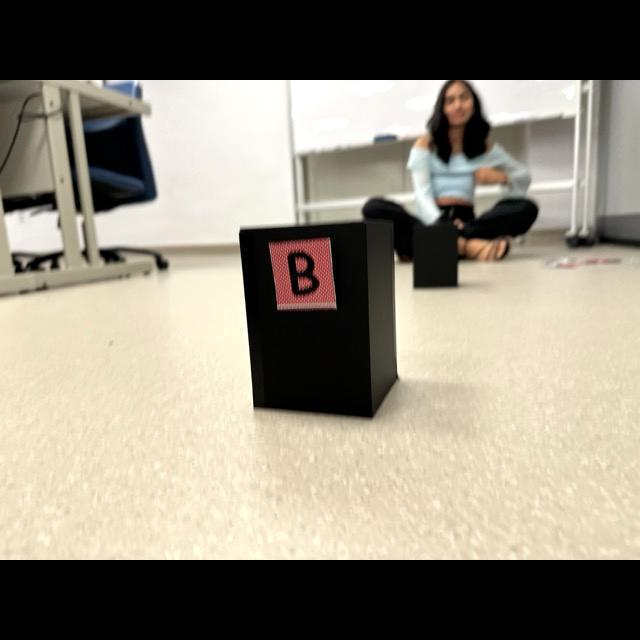B: (287, 251, 319, 295)
